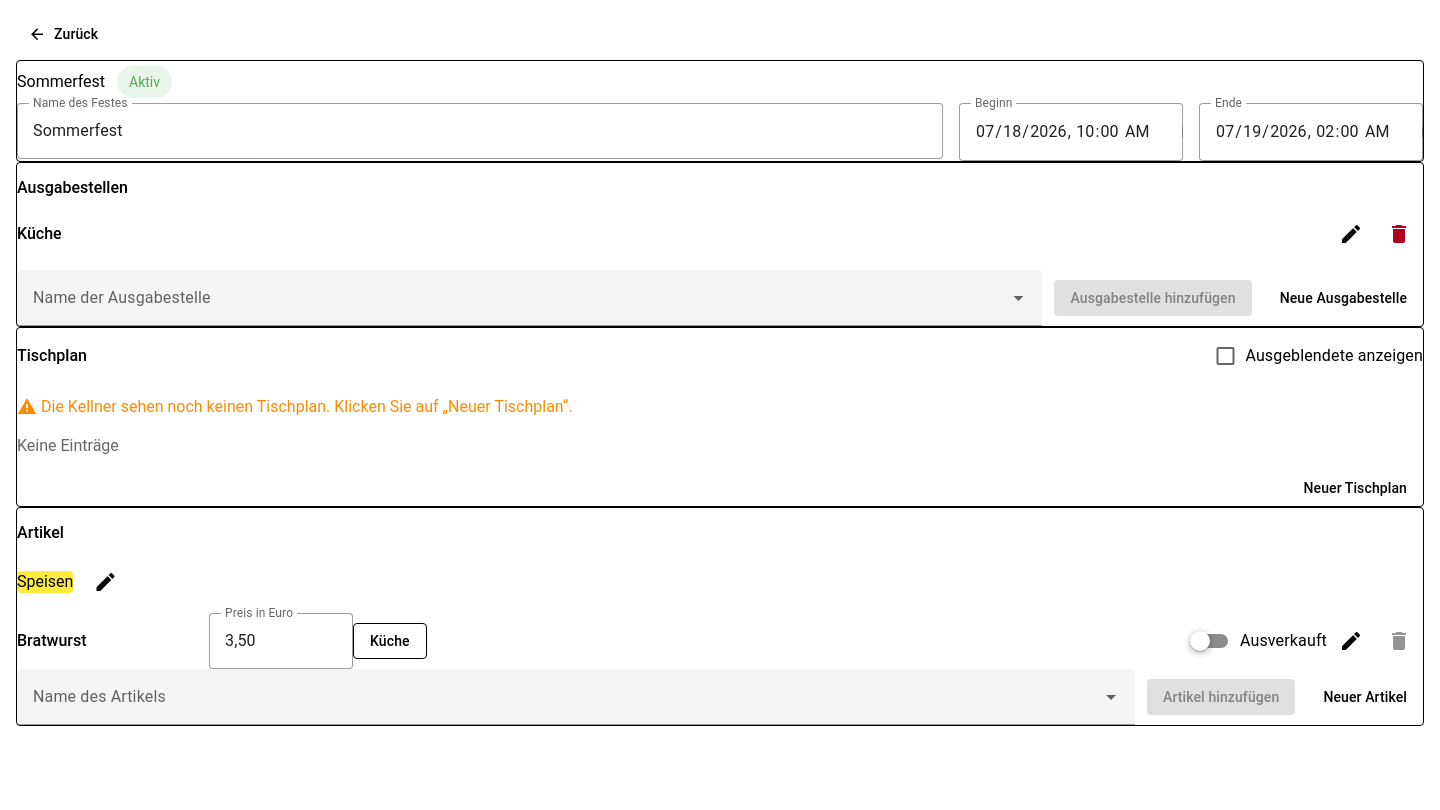
Test: the stations of this festival › asks before a station leaves the festival
This screenshot has width=1440, height=810.
Click the button with test id "remove-station" at (1399, 234), box [1375,210,1423,258]
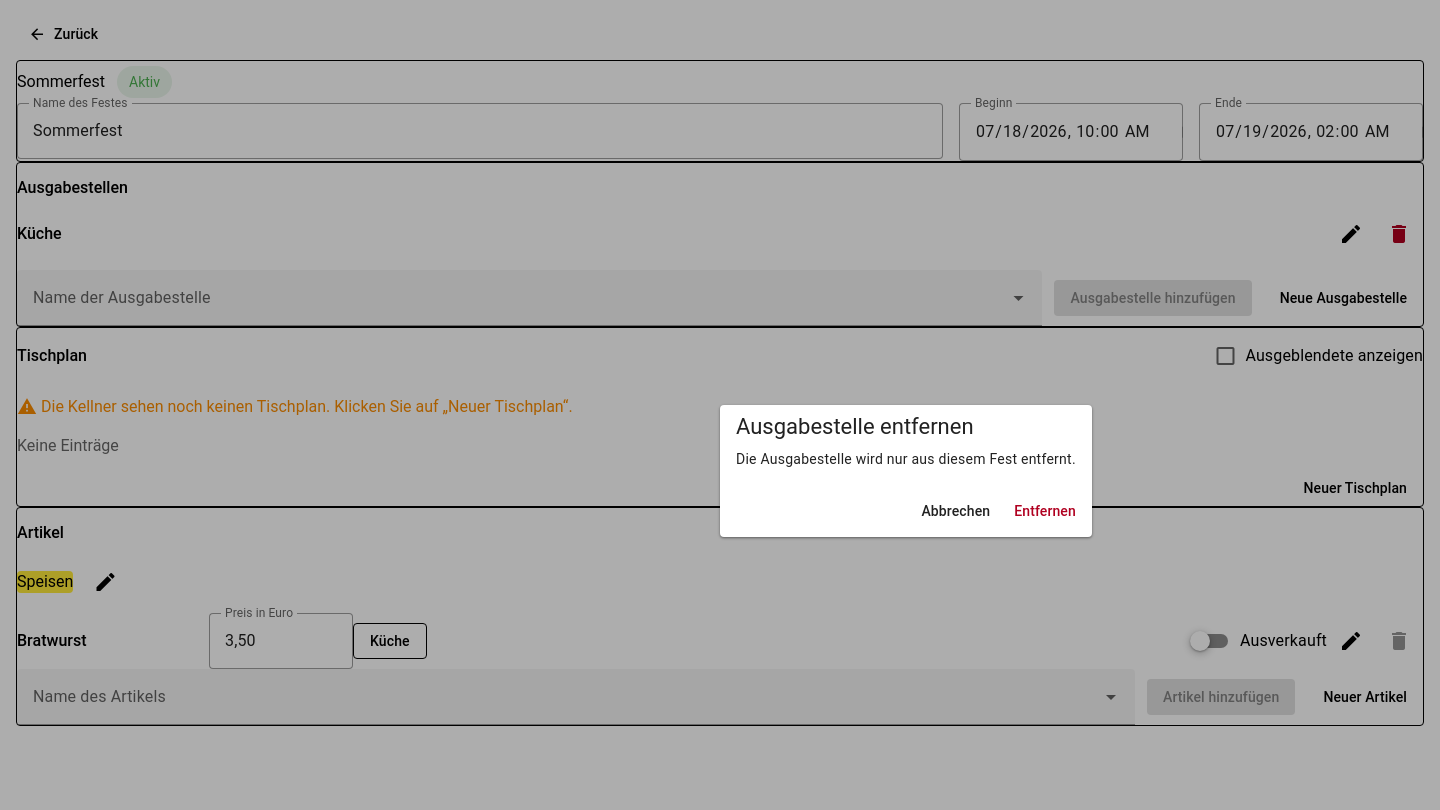
Now the element with test id "confirm-dialog" is shown, box [720,405,1092,537]
